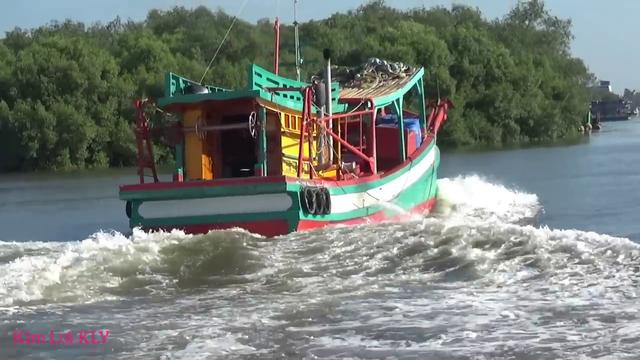Ship: (119, 57, 449, 233)
